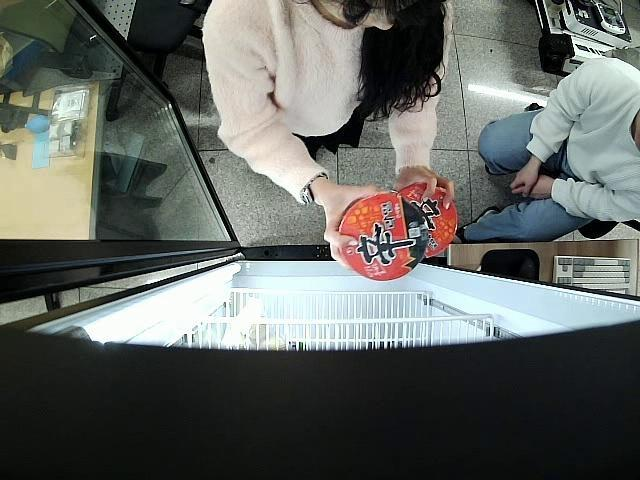01_ShinRamen_L: (336, 192, 428, 282), (405, 178, 456, 258)
